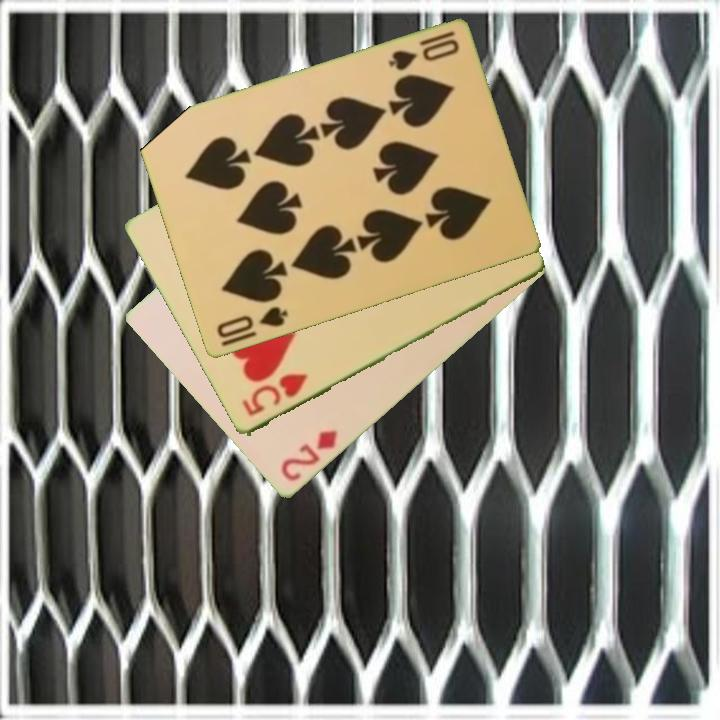10s: (384, 28, 462, 74), (213, 303, 291, 342)
2d: (277, 427, 341, 485)
5h: (238, 370, 311, 420)
